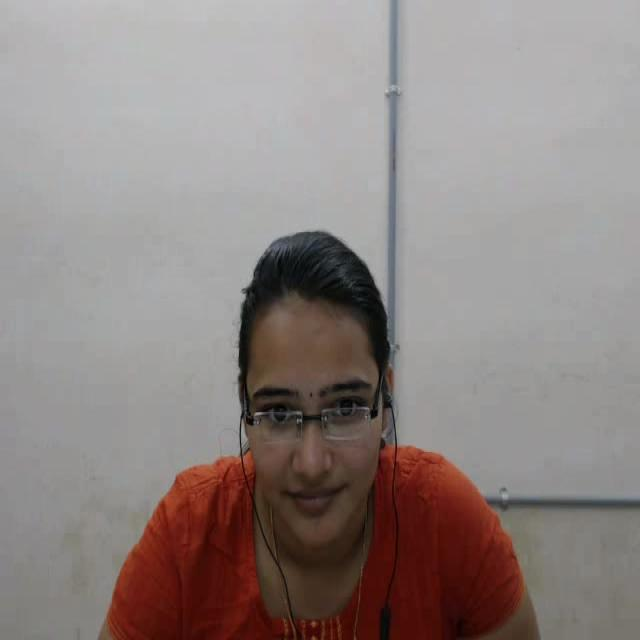Engaged: (192, 215, 477, 597)
